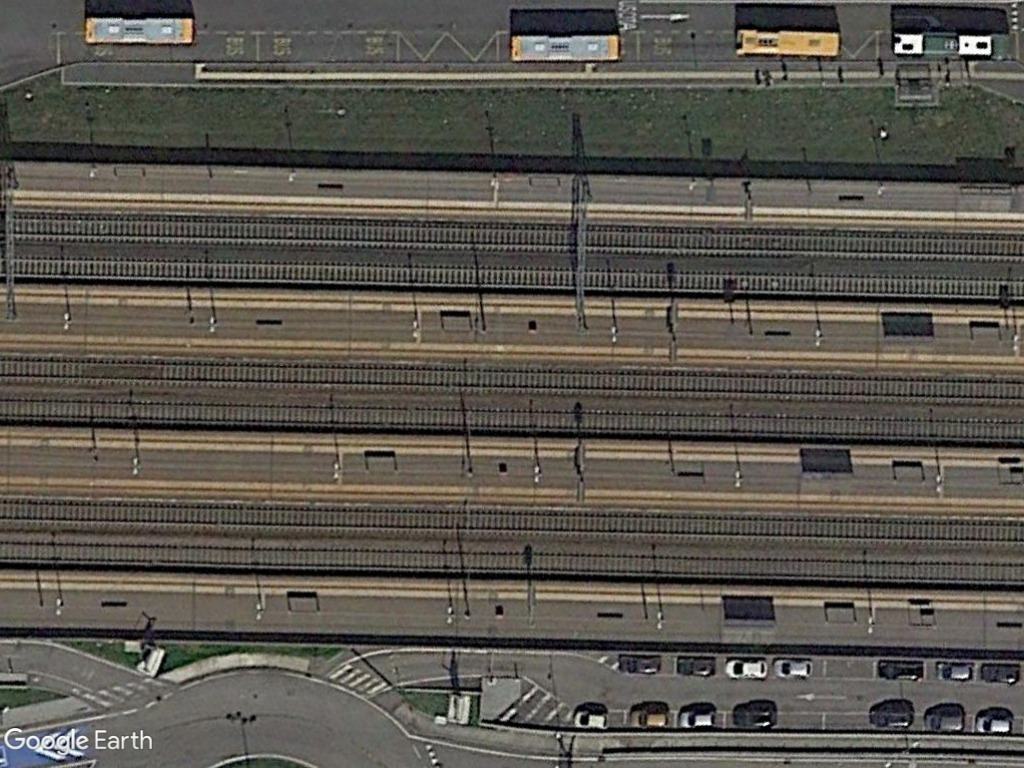bus: (888, 28, 1022, 64), (730, 23, 846, 62), (505, 29, 626, 65), (79, 13, 199, 47)
car: (567, 704, 616, 732), (722, 656, 770, 683), (626, 705, 675, 731), (970, 710, 1017, 737), (931, 659, 981, 684), (920, 709, 968, 735), (769, 655, 816, 681), (675, 706, 719, 732)
